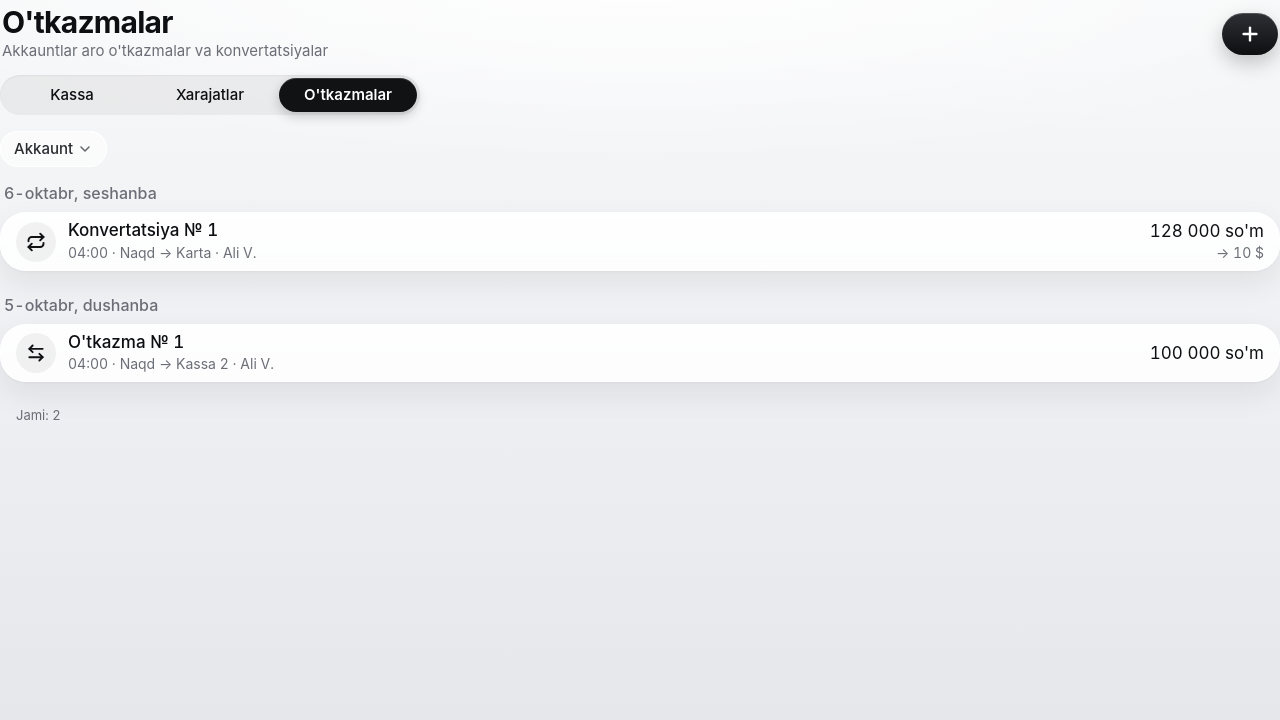
it: the plus offers a transfer or a conversion, each in its sheet
The image size is (1280, 720).
Click the button named "O'tkazma qo'shish" at (1250, 34), box [1222,13,1278,55]
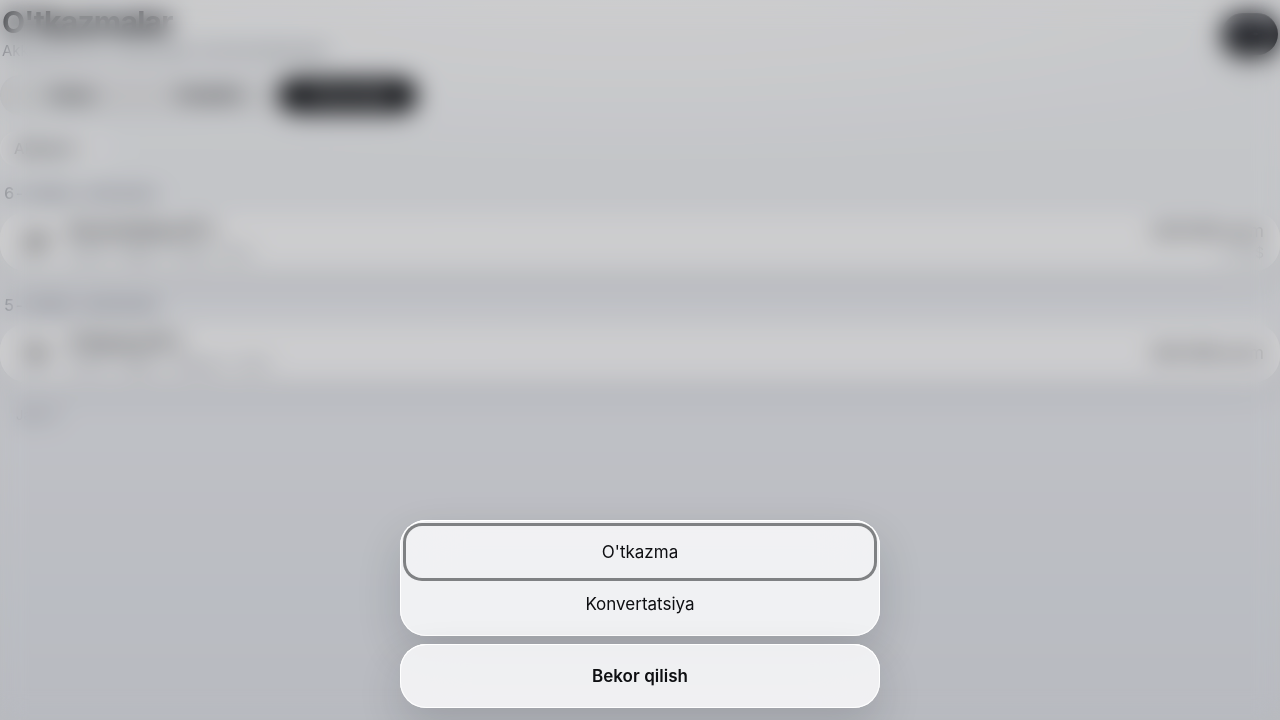
Expected: the menu items read "O'tkazma", "Konvertatsiya", in this order
Click the menu item "Konvertatsiya" at (640, 604), box [406,578,874,630]
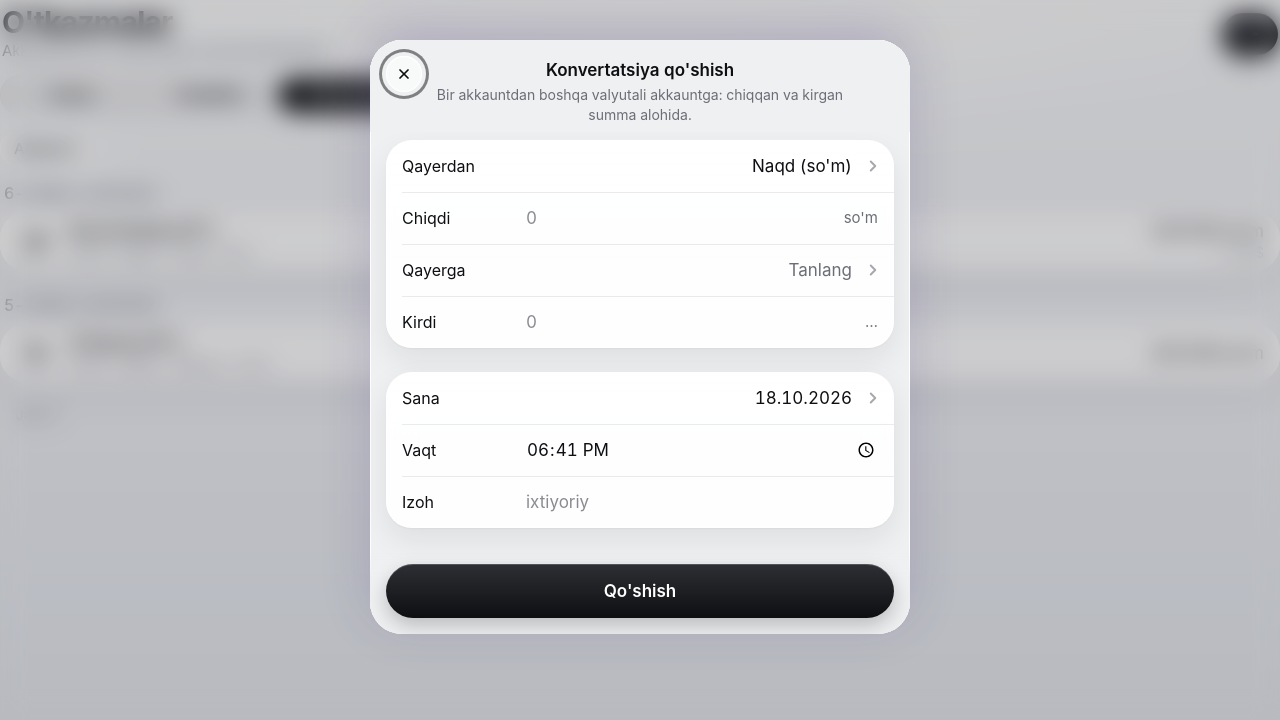
Expected: the dialog "Konvertatsiya qo'shish" is shown, [370,40,910,634]
Press Escape
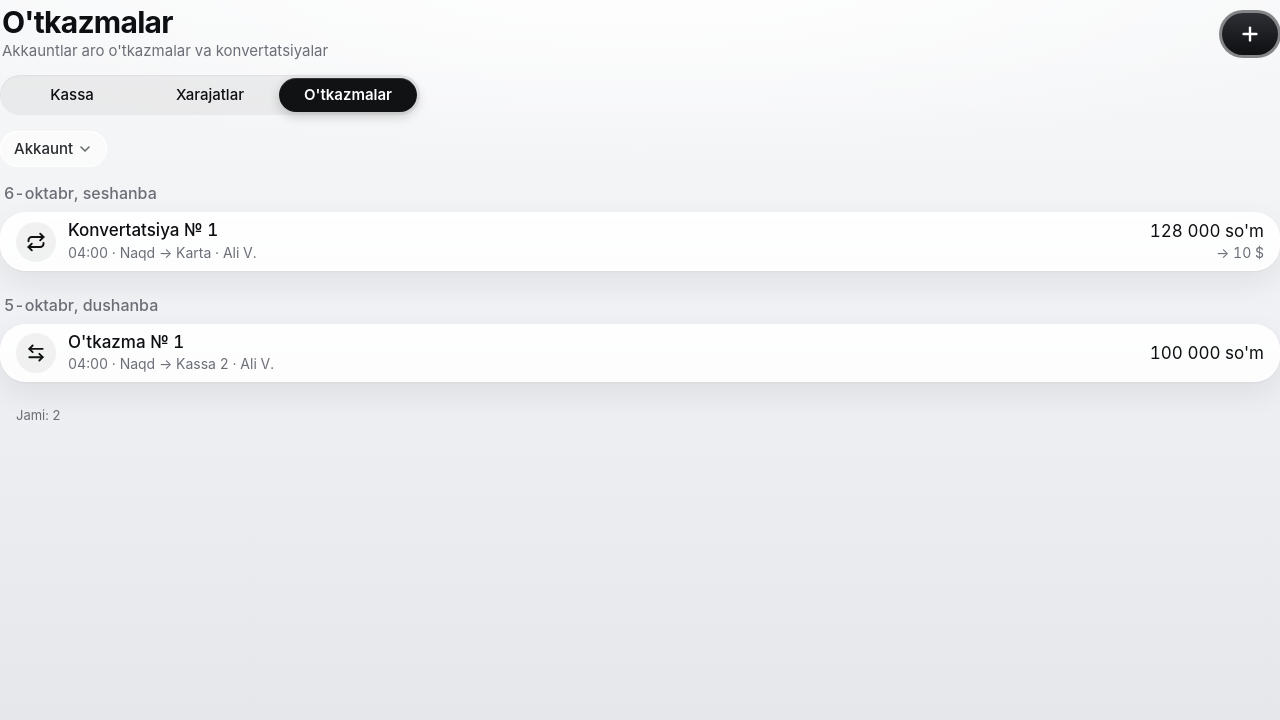
Expected: the dialog is gone
Click the button named "O'tkazma qo'shish" at (1250, 34), box [1222,13,1278,55]
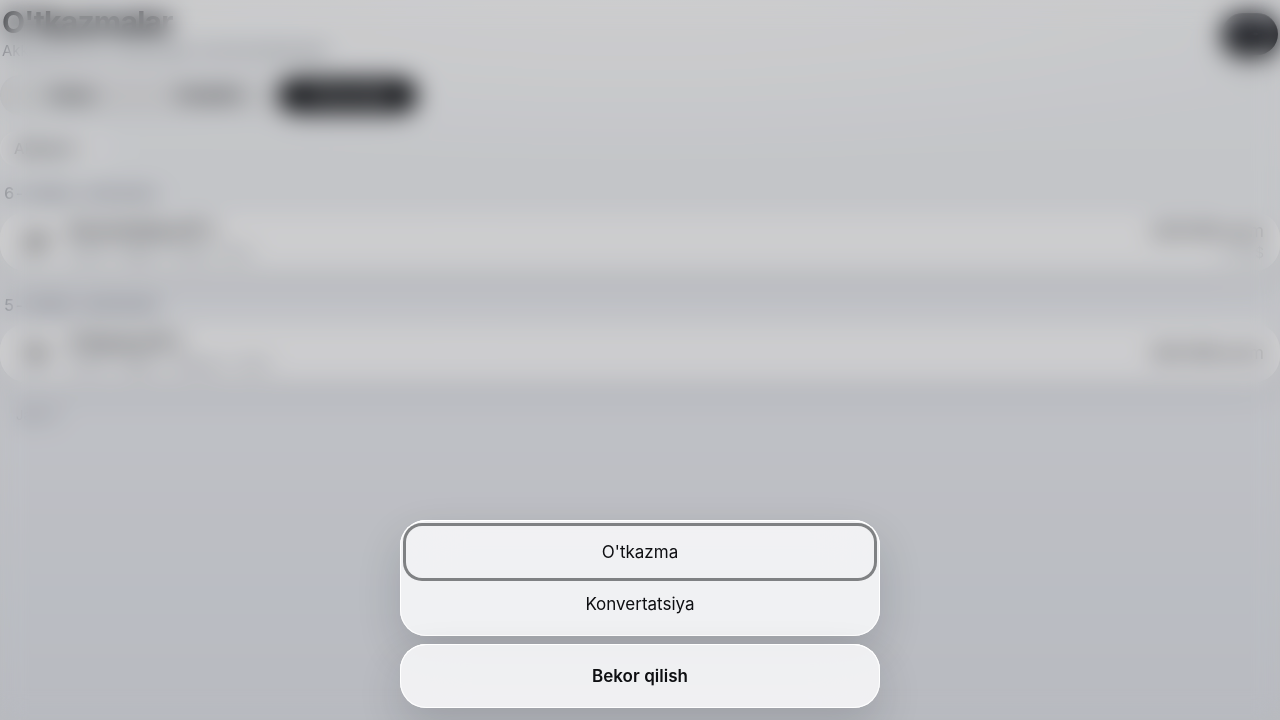
Click the menu item "O'tkazma" at (640, 552), box [406,526,874,578]
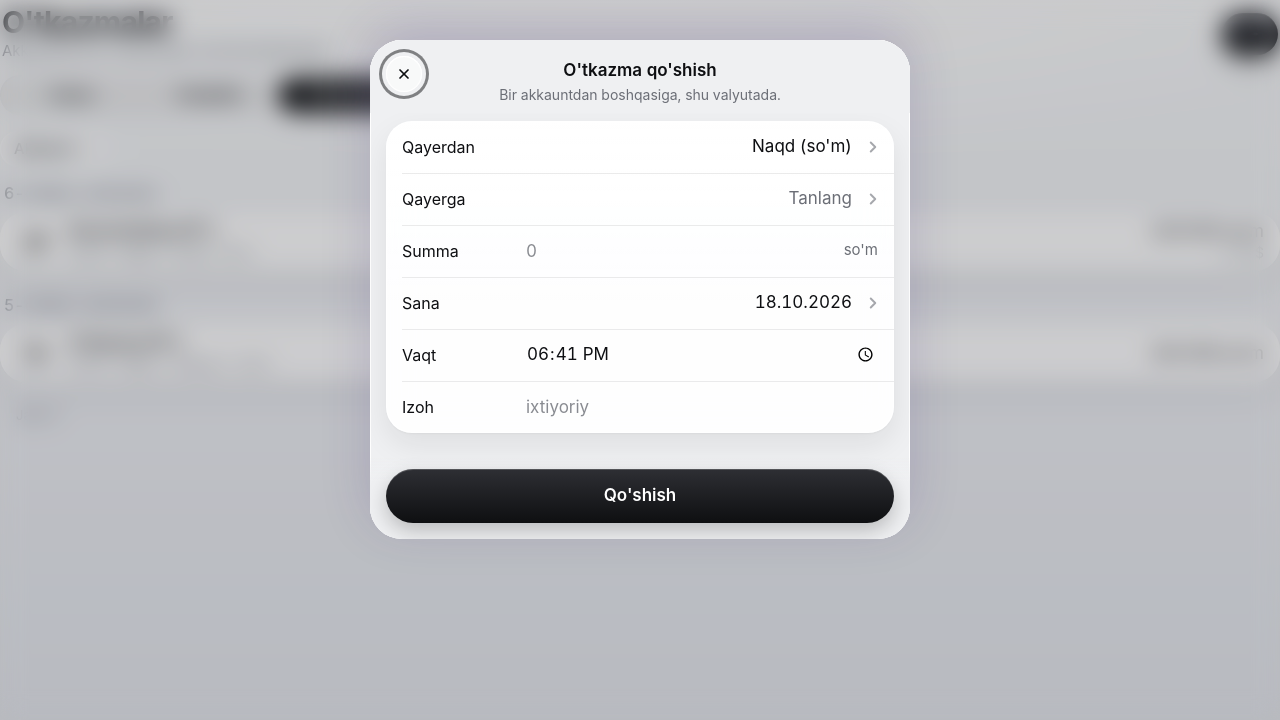
Expected: the dialog "O'tkazma qo'shish" is shown, [370,40,910,538]
